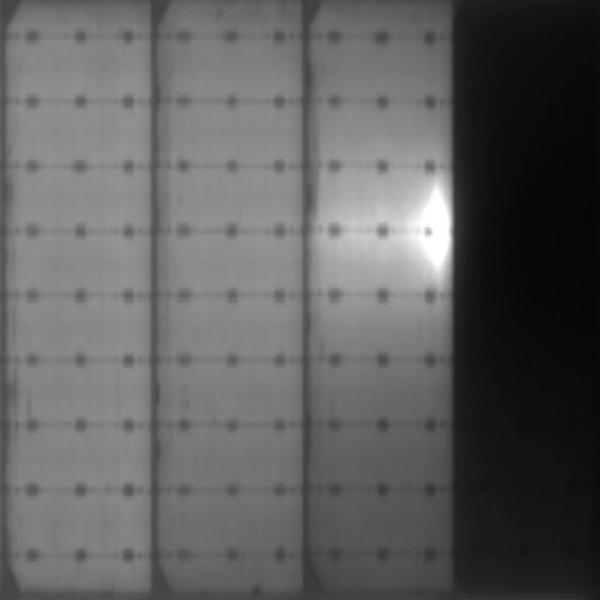hot_spot: (418, 187, 449, 265)
no_electricity: (454, 3, 600, 600)
